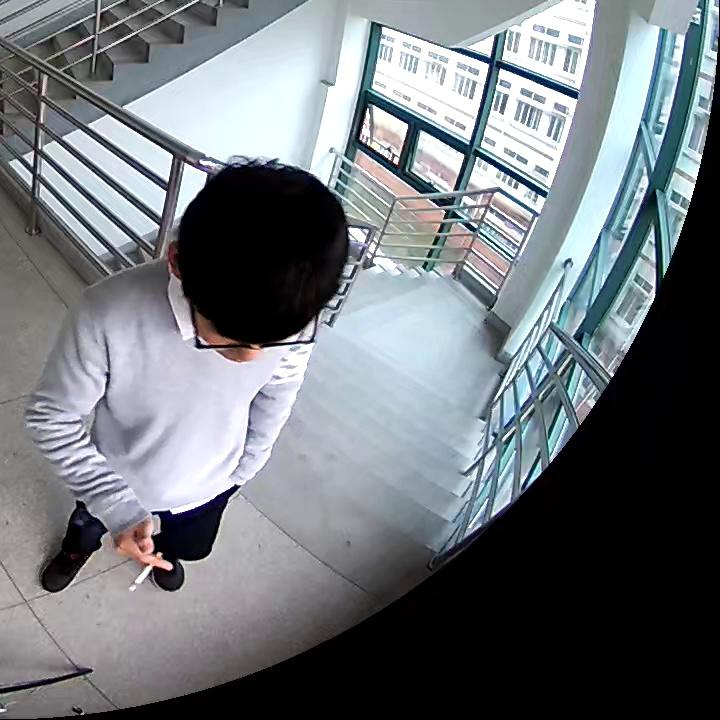handsmoke: (117, 516, 173, 593)
mouthwithoutsmoke: (170, 160, 354, 366)
